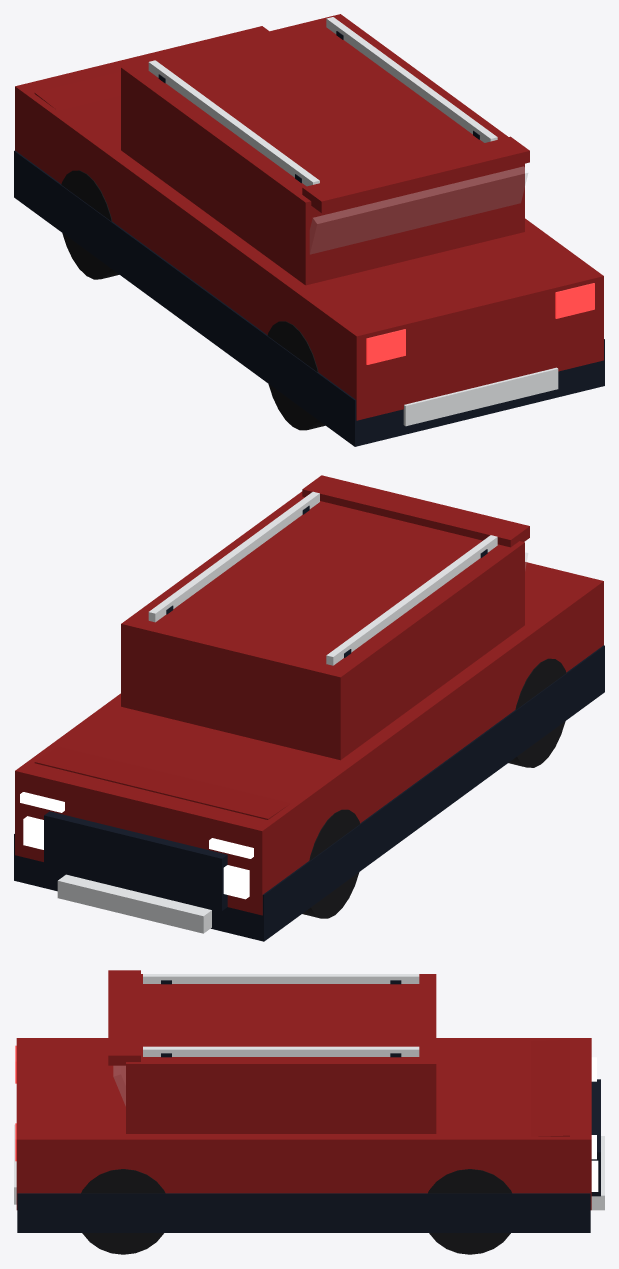
The model's file is tracker.glb.
3 renders of one model, top to bottom at view 1: azimuth 30°, elevation 25°; view 2: azimuth 150°, elevation 25°; view 3: azimuth 270°, elevation 25°, orthographic. The views are drawn at different scales.
Visible parts, largest first — view 1: body_cabin, body, object 1, glass, object 19, object 22, object 15, object 18, car-wheel.Bk.L, car-wheel.Ft.L, body_hood, taillight.L (+1 smaller); view 2: body_cabin, body, object 1, object 4, object 19, body_hood, object 5, object 18, object 15, car-wheel.Bk.L, car-wheel.Ft.L, headlight.L (+1 smaller); view 3: body, body_cabin, object 1, body_hood, object 19, object 18, car-wheel.Ft.R, car-wheel.Bk.R, object 15, object 4, object 5.
Boxes of the visible parts, box(x1,y1,x2,y2) form: body_cabin: box(121, 14, 524, 285); body: box(15, 26, 603, 420); object 1: box(14, 150, 604, 446); glass: box(310, 166, 527, 254); object 19: box(302, 136, 529, 213); object 22: box(403, 367, 558, 426); object 15: box(148, 60, 319, 186); object 18: box(326, 17, 497, 142); car-wheel.Bk.L: box(267, 321, 325, 430); car-wheel.Ft.L: box(61, 170, 119, 279); body_hood: box(34, 71, 120, 110); taillight.L: box(366, 329, 405, 364); body_cabin: box(121, 491, 524, 760); body: box(15, 562, 603, 915); object 1: box(14, 645, 604, 941); object 4: box(44, 811, 227, 910); object 19: box(302, 475, 529, 547); body_hood: box(34, 746, 290, 819); object 5: box(57, 874, 211, 933); object 18: box(148, 491, 319, 622); object 15: box(326, 535, 497, 665); car-wheel.Bk.L: box(508, 658, 566, 767); car-wheel.Ft.L: box(302, 809, 359, 918); headlight.L: box(223, 865, 249, 899); body: box(16, 1038, 591, 1210); body_cabin: box(126, 974, 436, 1133); object 1: box(17, 1193, 590, 1232); body_hood: box(531, 1040, 569, 1136); object 19: box(108, 970, 140, 1065); object 18: box(143, 1046, 419, 1056); car-wheel.Ft.R: box(428, 1169, 512, 1254); car-wheel.Bk.R: box(81, 1169, 165, 1254); object 15: box(143, 974, 419, 983); object 4: box(591, 1079, 600, 1196); object 5: box(591, 1136, 604, 1210).
Bounding box in the file's own units: 1.8 × 1.57 × 4.38.
